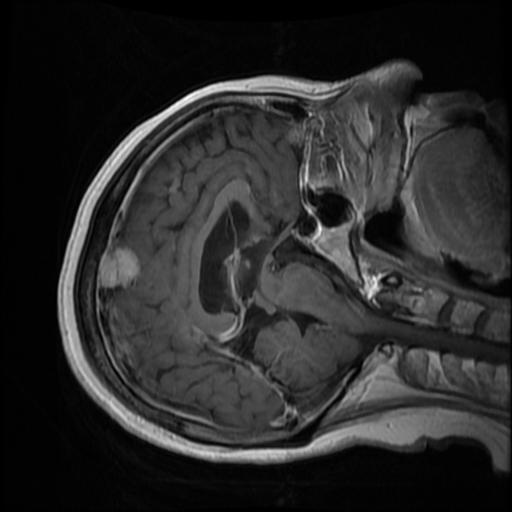meningioma: (99, 246, 140, 289)
